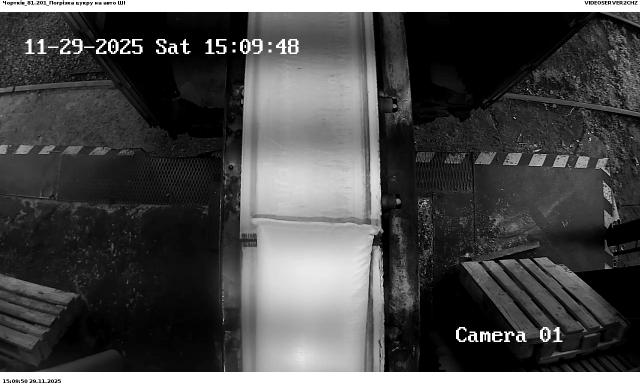bag: (252, 218, 384, 372)
